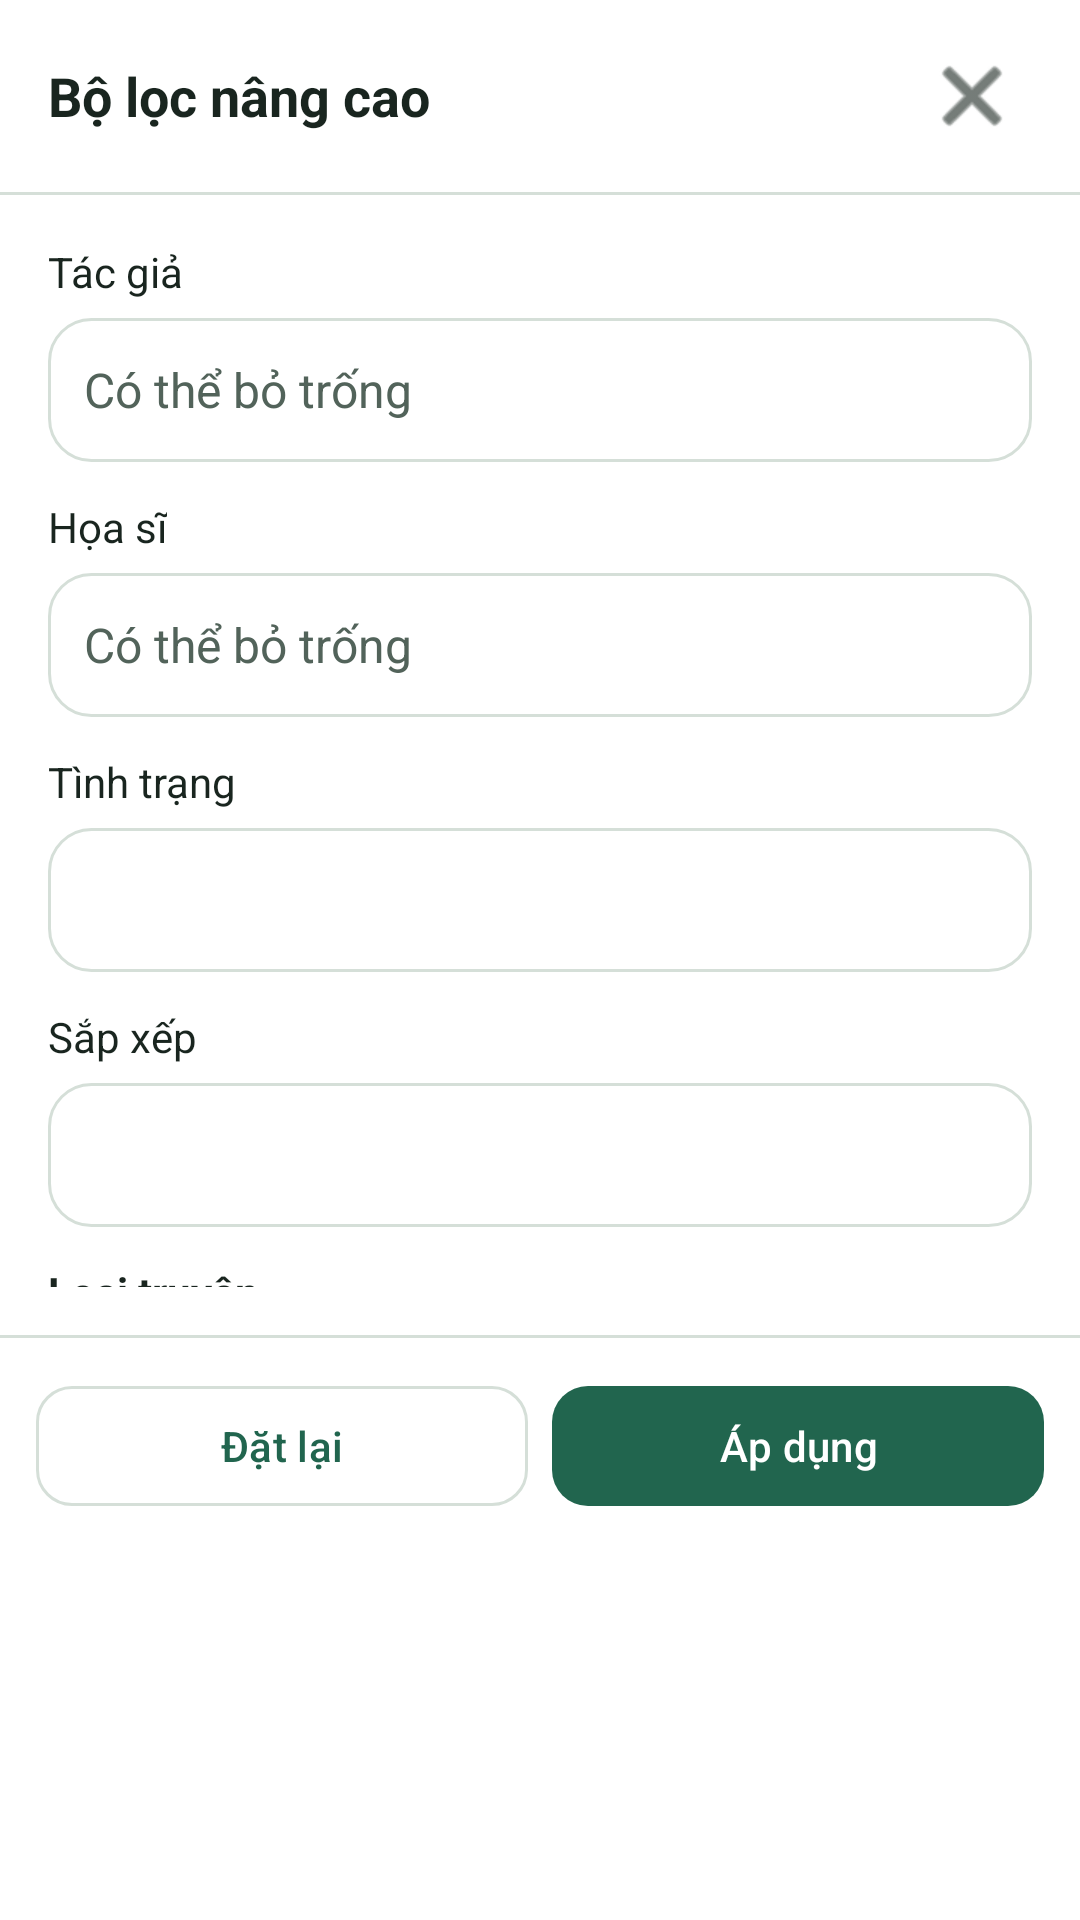

Icon bounding boxes for this 1080×1920 phone screenshot, format (x1, y1, x2, y2):
Đóng bộ lọc: (942, 66, 1002, 126)
